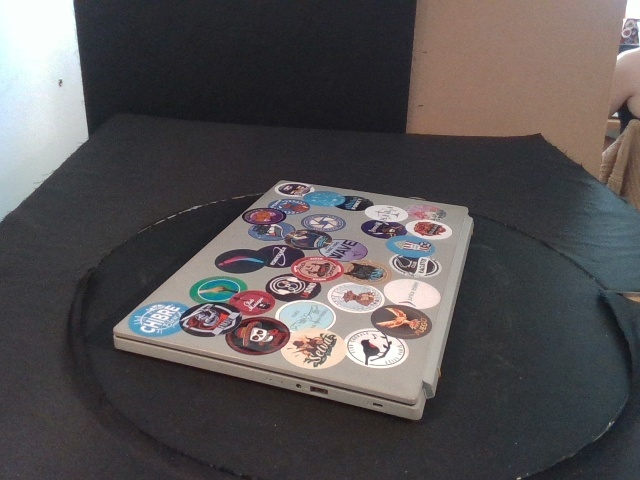laptop: (111, 179, 475, 421)
